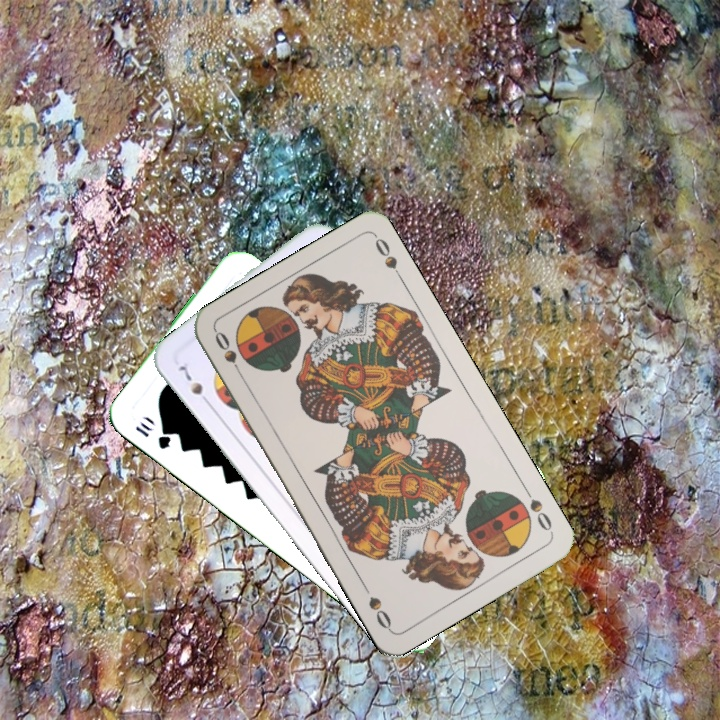G10: (131, 418, 174, 452)
S7: (175, 361, 214, 409)
SO: (210, 327, 247, 382), (519, 482, 556, 536)
